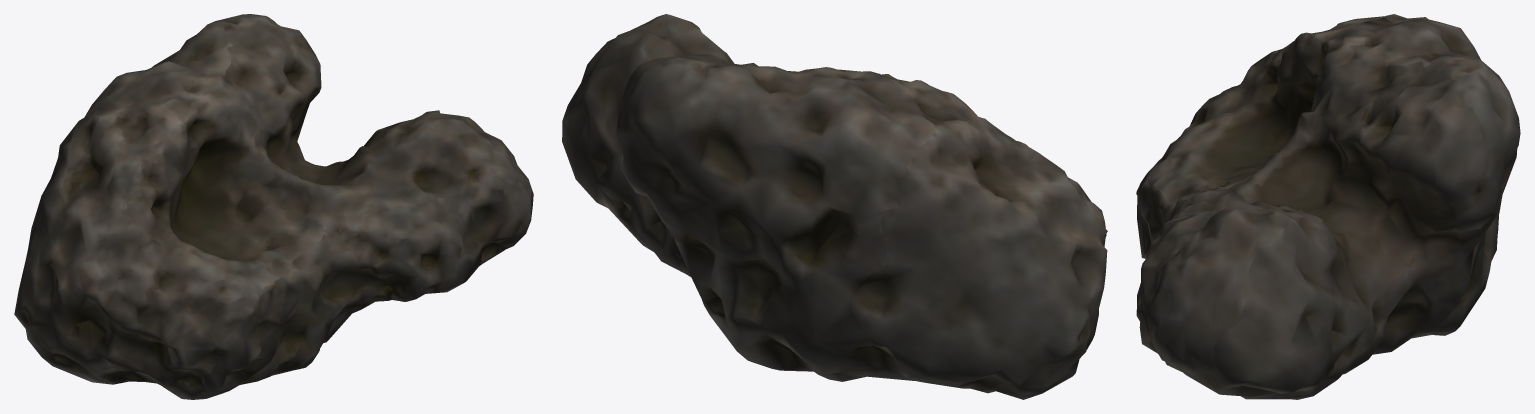
The model's file is asteroid_uncommon_2_lod2.glb.
3 views of the same model, side by side, from view 1: azimuth 30°, elevation 25°; view 2: azimuth 150°, elevation 25°; view 3: azimuth 270°, elevation 25° (orthographic). The views are drawn at different scales.
Visible parts, largest first — view 1: model; view 2: model; view 3: model.
Part boxes in pixels (x1,y1,x2,y2): model: [14, 14, 533, 399]; model: [562, 14, 1107, 399]; model: [1136, 14, 1520, 399].
Size of the model in its own units: 1.89 by 1.03 by 1.14.
Materials: 1 (1 with a texture image).
